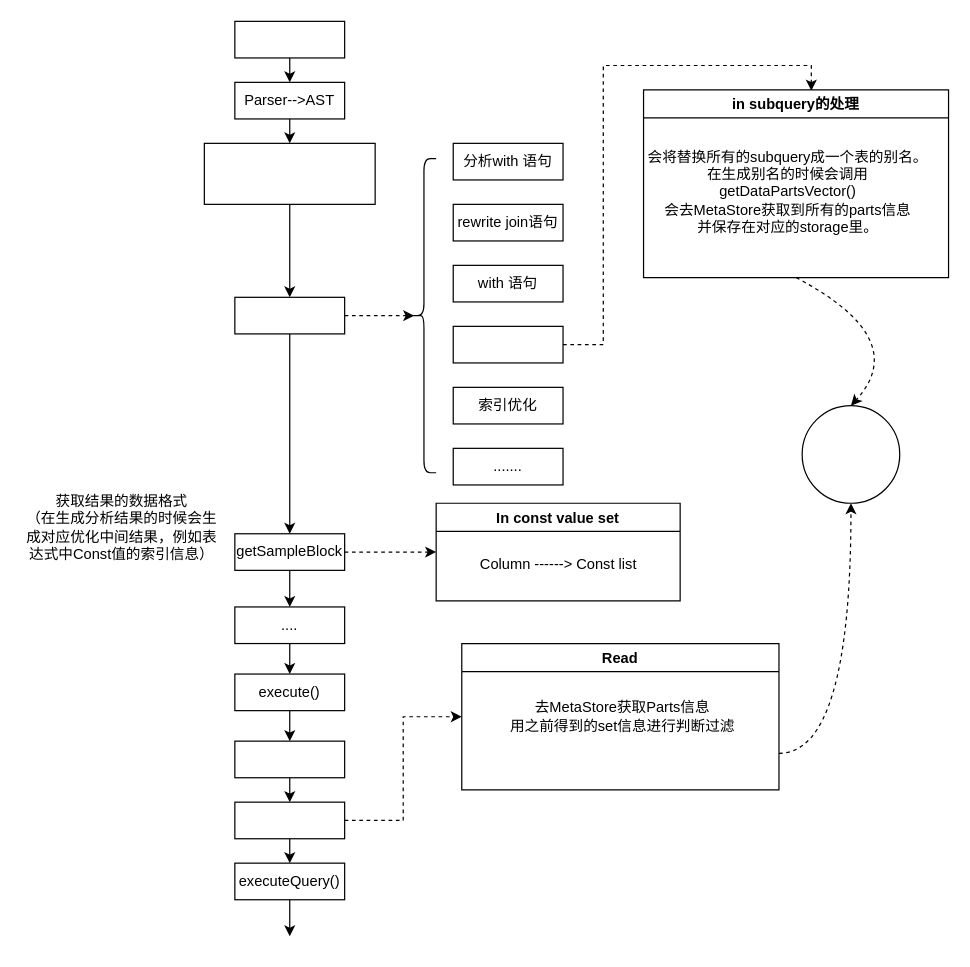
Some shapes in this 970 by 967 pixel diagram are drawn without their labels. The centre of each missing label's shape, as x and y in pixels:
"buildQueryPlan" goes at (289,759).
"MetaStore" goes at (850,453).
"Optimize" goes at (289,315).
"rewrite 表达式" goes at (507,344).
"SQL" goes at (289,39).
"storage->read()" goes at (289,820).
"通过工厂类: InterpreterFactory构造 InterpreterSelectQuery" goes at (289,173).
